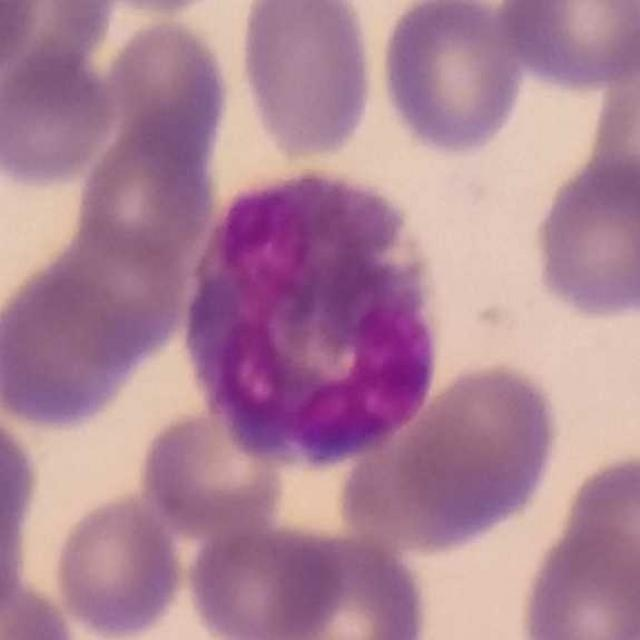Eosinophil: (172, 168, 451, 478)
RBC: (343, 356, 570, 554), (69, 101, 224, 277), (0, 260, 147, 436), (23, 224, 196, 370), (232, 0, 380, 166), (375, 0, 528, 160), (49, 487, 187, 640), (135, 403, 294, 534), (526, 149, 640, 325), (182, 517, 343, 640), (102, 18, 229, 172), (265, 527, 433, 640), (0, 39, 119, 194), (513, 515, 640, 640), (553, 446, 640, 619), (492, 0, 640, 93), (0, 1, 116, 98), (587, 37, 640, 221), (0, 399, 43, 573), (0, 569, 81, 640), (0, 0, 47, 86), (0, 503, 28, 631), (59, 0, 249, 18)
